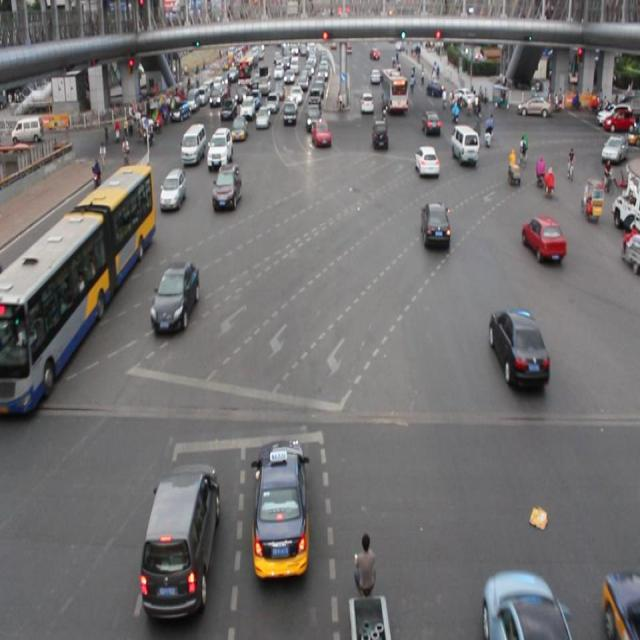car: (251, 437, 311, 582), (480, 571, 564, 640), (488, 306, 547, 388), (150, 259, 198, 334), (601, 571, 640, 640), (522, 212, 566, 262), (212, 162, 242, 214), (420, 199, 450, 249), (159, 169, 186, 211), (208, 128, 231, 168), (414, 144, 439, 178), (309, 116, 332, 151), (369, 117, 389, 153), (421, 109, 440, 138), (229, 115, 248, 143)
truck: (141, 459, 216, 617), (450, 123, 478, 165), (180, 124, 205, 166)
van: (0, 164, 148, 412)
